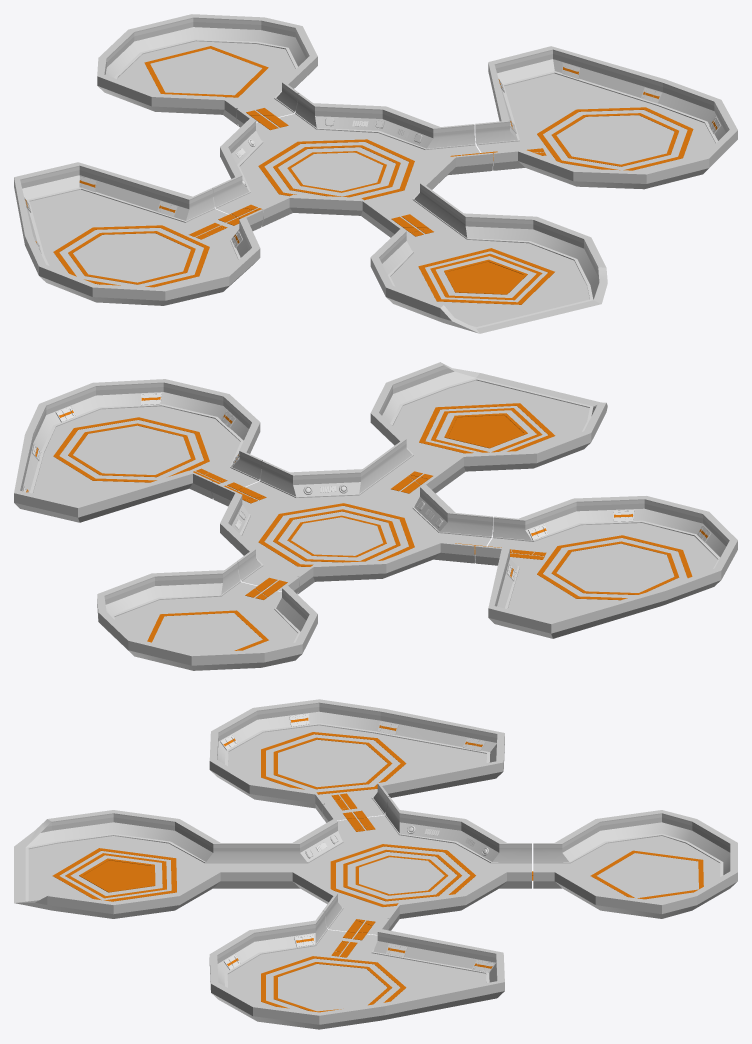
The model's file is uzaybitis.fbx.
3 views of the same model, one above another, from view 1: azimuth 30°, elevation 25°; view 2: azimuth 150°, elevation 25°; view 3: azimuth 270°, elevation 25° (orthographic). The views are drawn at different scales.
Parts seen in each view (by area): view 1: Circle.057, Circle.024; view 2: Circle.057, Circle.024; view 3: Circle.057, Circle.024.
Boxes of the visible parts, x1,y1,x2,y2 form: Circle.057: (29, 41, 715, 333); Circle.024: (14, 14, 737, 333); Circle.057: (33, 373, 717, 652); Circle.024: (14, 362, 737, 670); Circle.057: (14, 725, 720, 1012); Circle.024: (14, 699, 737, 1029).
Bounding box in the file's own units: 664 × 18.51 × 642.
